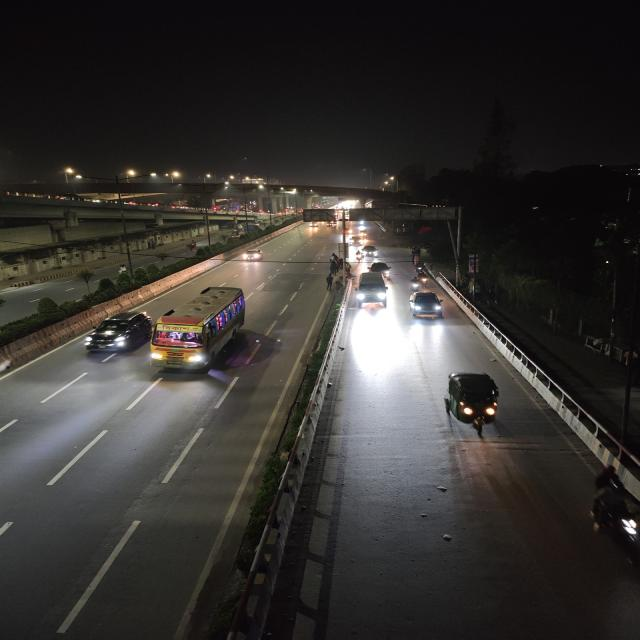bicycle: (322, 252, 347, 292)
bus: (150, 283, 253, 375)
car: (78, 308, 150, 357), (354, 271, 392, 309), (406, 291, 448, 321), (366, 261, 393, 277), (240, 247, 267, 263), (362, 245, 381, 259)
cng: (439, 369, 508, 441)
motorcycle: (408, 276, 423, 292)
